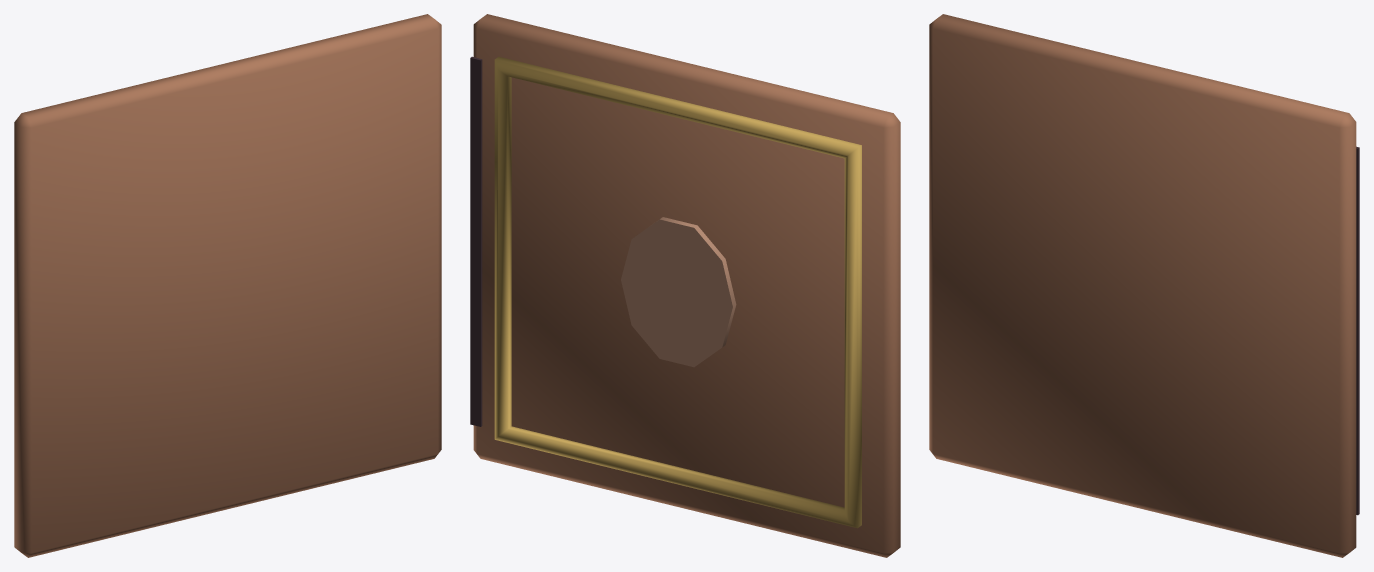
File: loose_panel.glb
3 renders of one model, left to right at view 1: azimuth 30°, elevation 25°; view 2: azimuth 150°, elevation 25°; view 3: azimuth 330°, elevation 25°, orthographic.
Parts seen in each view (by area): view 1: loose_panel; view 2: loose_panel; view 3: loose_panel.
Part boxes in pixels (x1,y1,x2,y2): loose_panel: (14, 14, 441, 557); loose_panel: (470, 14, 900, 557); loose_panel: (929, 14, 1359, 557).
Size of what is drawn, in the model's own units: 0.6 by 0.6 by 0.05.
